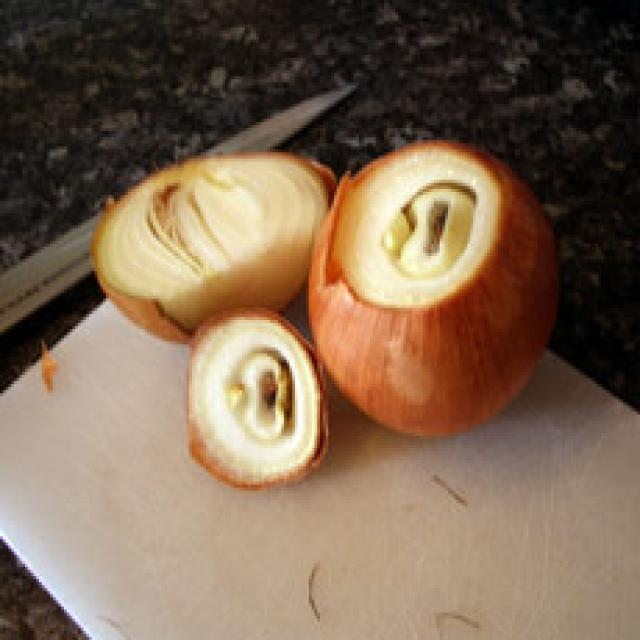Onion: (310, 140, 555, 438), (88, 150, 339, 344), (183, 305, 333, 488)
